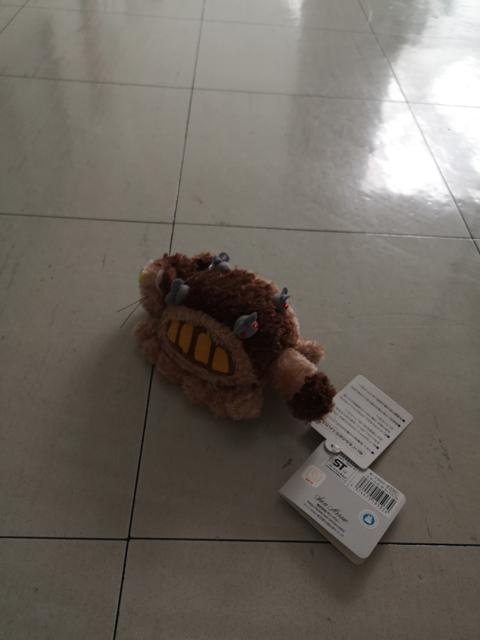nekobus: (115, 244, 391, 446)
